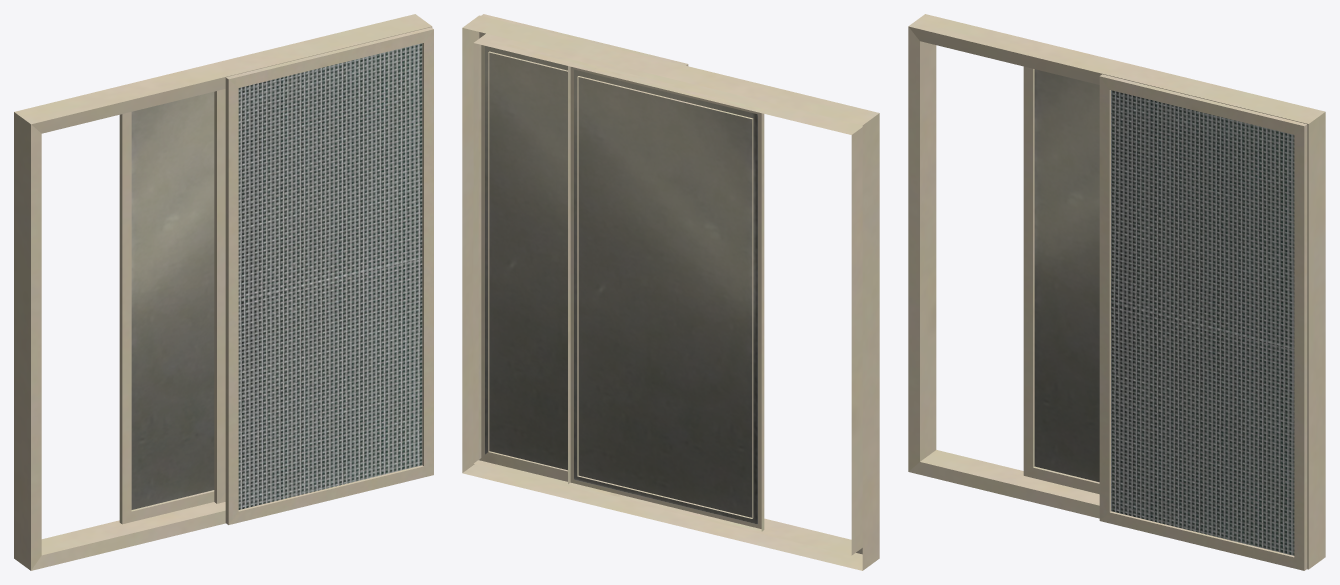
The model's file is Window_0.75m_004.fbx.
3 views of the same model, side by side, from view 1: azimuth 30°, elevation 25°; view 2: azimuth 150°, elevation 25°; view 3: azimuth 330°, elevation 25° (orthographic).
Parts seen in each view (by area): view 1: Window_0.75m_004; view 2: Window_0.75m_004; view 3: Window_0.75m_004.
Part boxes in pixels (x1,y1,x2,y2): Window_0.75m_004: (14, 14, 433, 570); Window_0.75m_004: (462, 14, 879, 570); Window_0.75m_004: (908, 14, 1325, 570).
Size of the model in its own units: 70.52 by 75 by 6.09.
Materials: 1 (1 with a texture image).
